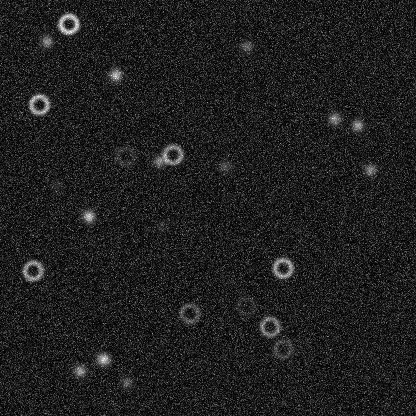Ring: (20, 258, 44, 282), (26, 92, 50, 116), (160, 142, 184, 166), (271, 336, 295, 360), (234, 294, 258, 318), (270, 255, 294, 279), (177, 301, 201, 325), (56, 11, 80, 35), (113, 144, 137, 168), (257, 314, 281, 338)
Spot: (48, 177, 64, 193), (151, 153, 167, 169), (107, 66, 123, 82), (349, 117, 365, 133), (238, 38, 254, 54), (80, 208, 96, 224), (153, 217, 169, 233), (71, 362, 87, 378), (216, 158, 232, 174), (326, 110, 342, 126), (95, 351, 111, 367), (362, 161, 378, 177), (118, 374, 134, 390), (38, 33, 54, 49)
